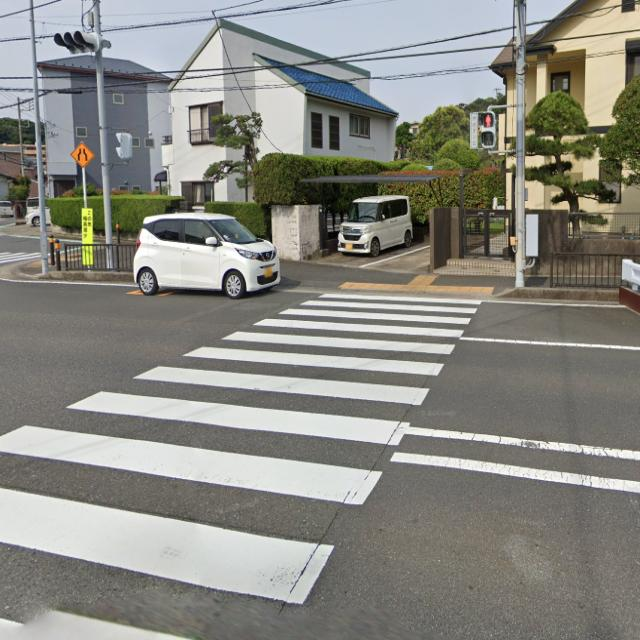traffic-light: (475, 114, 499, 150)
